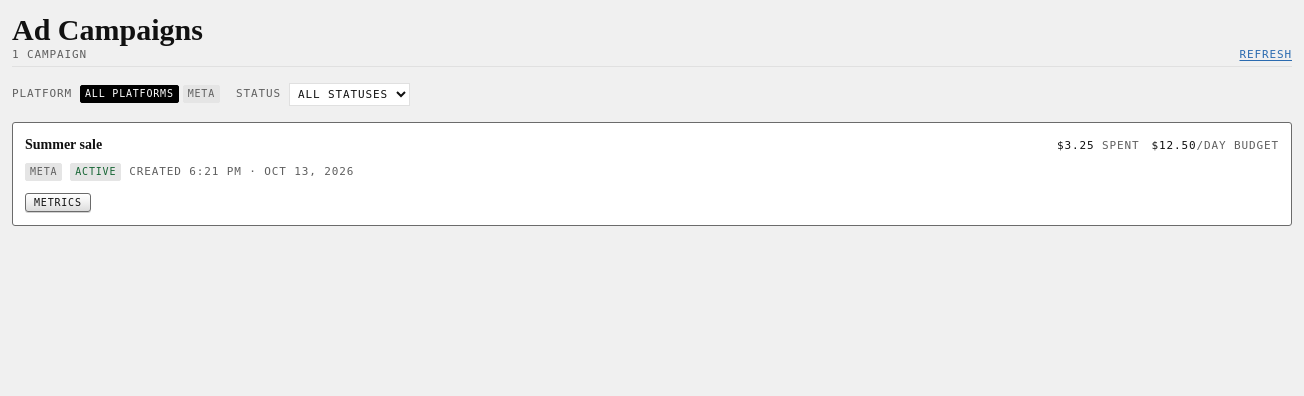
it: V25/L4 — ads revenue/ROAS render null and measured zero distinctly › discloses ROAS coverage with the exact copy when some days are unmeasured
This screenshot has width=1304, height=396.
Check: the element with test id "campaign-row" is shown, box [12,122,1292,226]
Click the button with test id "campaign-metrics-toggle-7" at (58, 203), box [25,193,91,212]
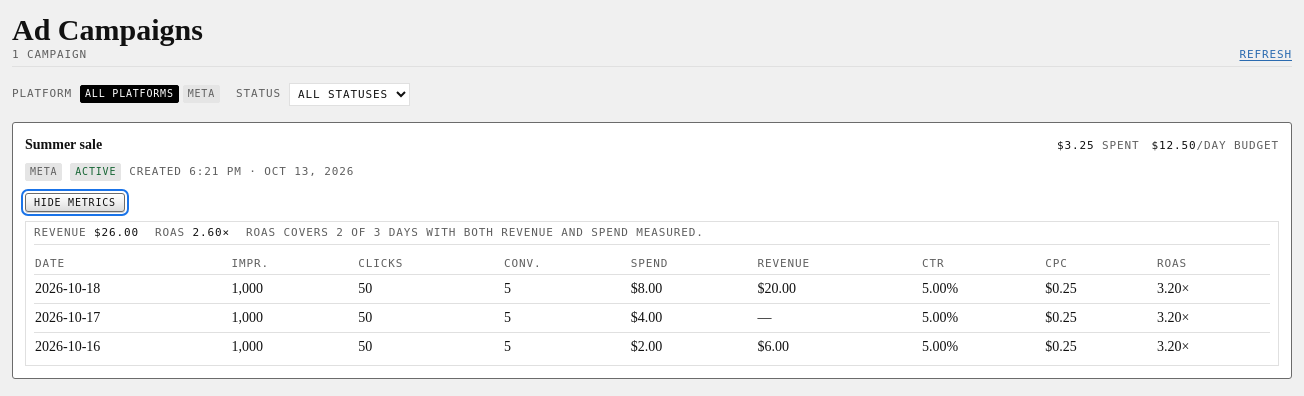
Check: the text with test id "campaign-roas-coverage-7" reads "ROAS covers 2 of 3 days with both revenue and spend measured.", box [246,226,704,239]
Check: the text with test id "campaign-revenue-7" reads "$26.00", box [94,226,139,239]
Check: the text with test id "campaign-roas-7" reads "2.60×", box [193,226,230,239]
